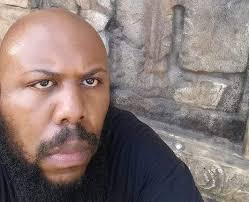s.black: (12, 94, 50, 134)
